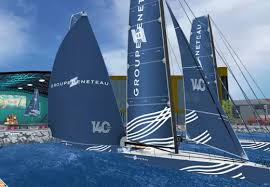boat: (1, 1, 268, 187)
